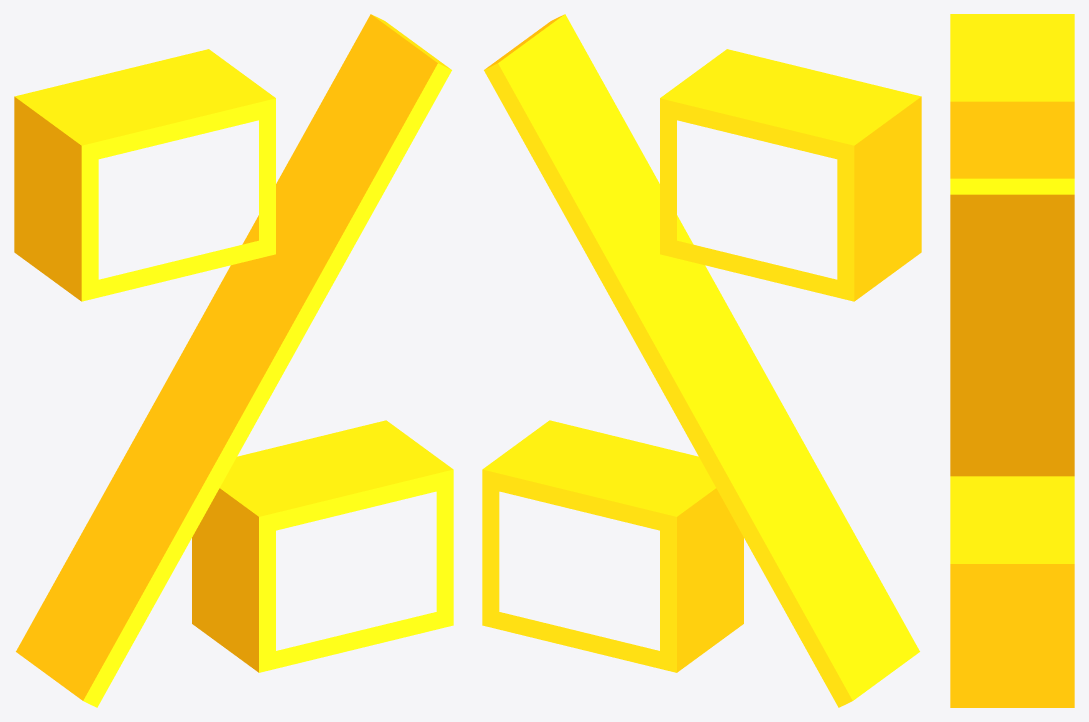
Rendered from 34c046d8-ef0d-4e4c-8f6f-e2378cb7ccf3.glb.
3 renders of one model, left to right at view 1: azimuth 30°, elevation 25°; view 2: azimuth 150°, elevation 25°; view 3: azimuth 270°, elevation 25°, orthographic. The views are drawn at different scales.
Visible parts, largest first — view 1: %_AlphaProta_Yellow; view 2: %_AlphaProta_Yellow; view 3: %_AlphaProta_Yellow.
Boxes of the visible parts, box(x1,y1,x2,y2) form: %_AlphaProta_Yellow: box(14, 14, 453, 707); %_AlphaProta_Yellow: box(482, 14, 921, 707); %_AlphaProta_Yellow: box(950, 14, 1074, 707).
Size of what is drawn, in the model's own units: 0.1436 by 0.2105 by 0.045.
Materials: 2 (2 with a texture image).
